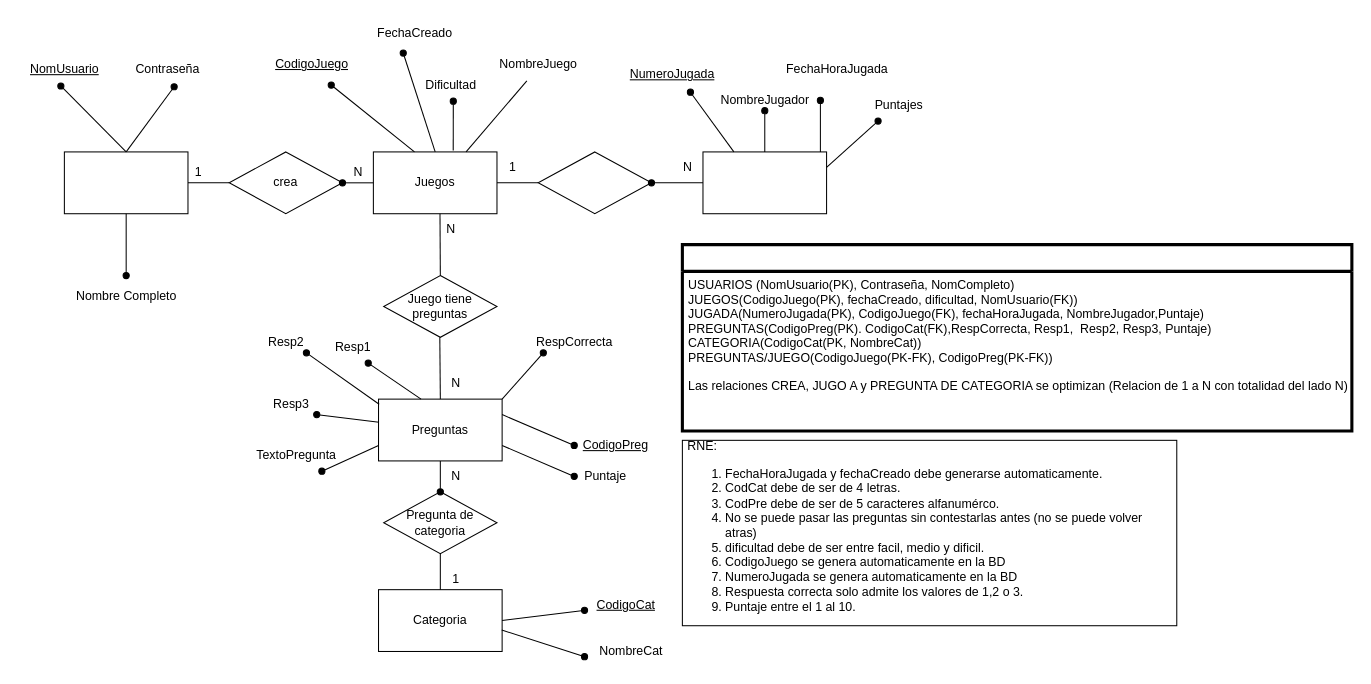
This 1371x684 diagram has some shape labels left out. Here are the shapes that lost their labels. From the top down, the box of each, then its label:
(63, 151, 188, 214): Usuarios
(537, 151, 651, 214): jugo a:
(702, 151, 827, 214): Jugada
(680, 243, 1353, 432): MODELO RELACIONAL - PASAJE A TABLAS
